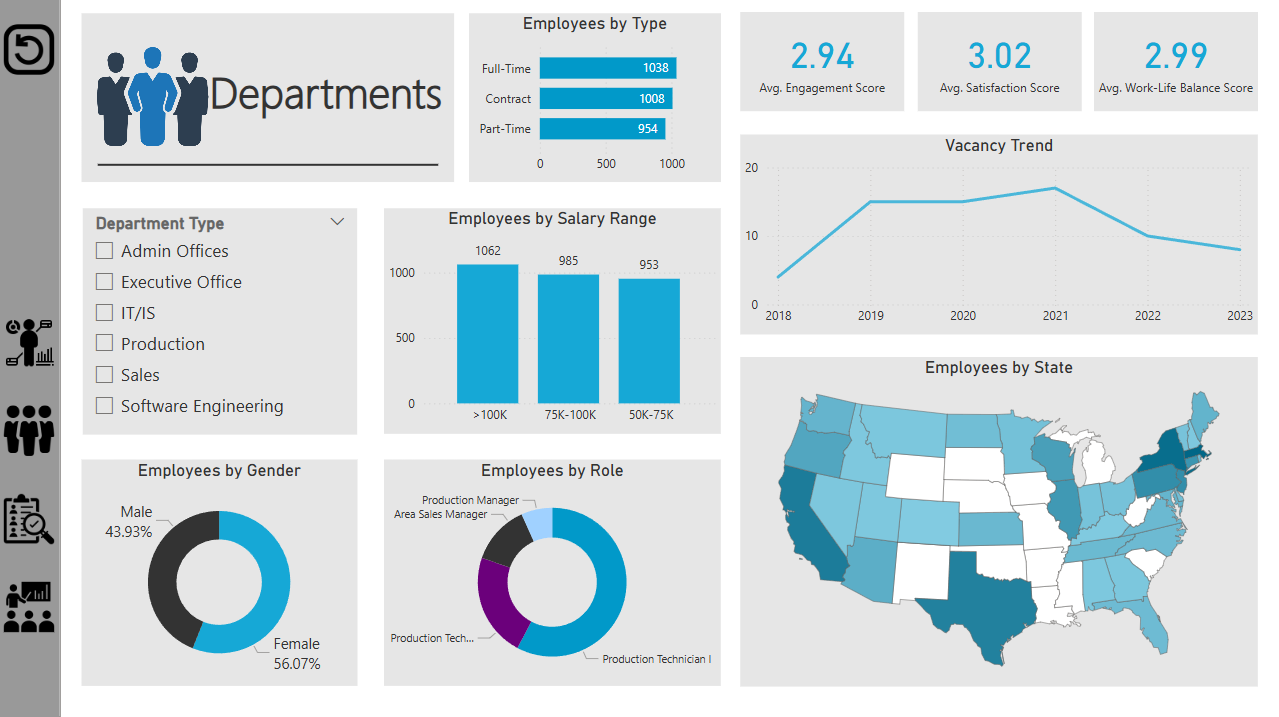

What the dashboard file says about the page in this screenshot:
{"tool":"powerbi","page":{"name":"Departments","canvas":[1280,720],"ordinal":1},"visuals":[{"type":"shape","box":[0,0,60.7,720.2],"z":0,"group":"g2"},{"type":"shape","box":[82.1,16.7,372.6,169],"z":0,"group":"g1"},{"type":"shapeMap","title":"Employees by State","fields":{"Category":["employee_data.State"],"Value":["Measure Table.Total Employees"]},"box":[741.9,359.6,517.8,329.6],"z":0},{"type":"slicer","title":"Department Type","fields":{"Values":["employee_data.DepartmentType"]},"box":[83.9,210.9,274.5,226.5],"z":1000},{"type":"image","box":[0,491.4,59.9,61.1],"z":1000,"group":"g2"},{"type":"shape","box":[98.8,161.9,340.5,13.1],"z":1500,"group":"g1"},{"type":"image","box":[90.4,38.1,125,123.8],"z":1750,"group":"g1"},{"type":"group","id":"g1","title":"Logo","box":[82.1,16.7,372.6,169],"z":2000},{"type":"textbox","box":[199.8,60,253.6,77.4],"z":2000,"group":"g1"},{"type":"image","box":[0,580.1,59.9,59.9],"z":2000,"group":"g2"},{"type":"image","box":[0,315.2,59.9,61.1],"z":3000,"group":"g2"},{"type":"donutChart","title":"Employees by Gender","fields":{"Y":["measure.Total Employees"],"Category":["employee_data.GenderCode"]},"box":[82.7,462.6,275.7,226.5],"z":3000},{"type":"image","box":[0,403.9,59.9,59.9],"z":4000,"group":"g2"},{"type":"donutChart","title":"Employees by Role","fields":{"Y":["Measure Table.Total Employees"],"Category":["employee_data.Title"]},"box":[384.7,462.6,336.8,226.5],"z":4000},{"type":"clusteredColumnChart","title":"Employees by Salary Range","fields":{"Category":["employee_data.Pay"],"Y":["Measure Table.Total Employees"]},"box":[384.7,210.9,336.8,225.3],"z":5000},{"type":"card","fields":{"Values":["Measure Table.Average Work Life Score"]},"box":[1095.4,14.4,164.2,99.5],"z":6000},{"type":"lineChart","title":"Vacancy Trend","fields":{"Category":["employee_data.StartDate.Variation.Date Hierarchy.Year","employee_data.StartDate.Variation.Date Hierarchy.Month"],"Y":["Measure Table.Total vacancies"]},"box":[741.9,137.8,517.8,200.1],"z":7000},{"type":"card","fields":{"Values":["Measure Table.Average Satisfaction Score"]},"box":[919.3,14.4,164.2,99.5],"z":8000},{"type":"card","fields":{"Values":["Measure Table.Average Engagement Score"]},"box":[741.9,14.4,164.2,99.5],"z":9000},{"type":"clusteredBarChart","title":"Employees by Type","fields":{"Category":["employee_data.EmployeeType"],"Y":["Measure Table.Total Employees"]},"box":[469.8,16.8,251.7,169],"z":10000},{"type":"group","id":"g2","title":"Nav Bar","box":[0,0,60.7,720.2],"z":11000},{"type":"image","box":[0,22.8,59.9,59.9],"z":12000}]}

Visuals, with their boxes on the page's 1280x720 design canvas (x1, y1, x2, y2). These are canvas units, not pixel positions in the 1279x717 screenshot, which may show the page scaled, cropped or inside an application window:
shape: [0, 0, 61, 720]
shape: [82, 17, 455, 186]
"Employees by State" shapeMap: [742, 360, 1260, 689]
"Department Type" slicer: [84, 211, 358, 437]
image: [0, 491, 60, 552]
shape: [99, 162, 439, 175]
image: [90, 38, 215, 162]
"Logo" group: [82, 17, 455, 186]
textbox: [200, 60, 453, 137]
image: [0, 580, 60, 640]
image: [0, 315, 60, 376]
"Employees by Gender" donutChart: [83, 463, 358, 689]
image: [0, 404, 60, 464]
"Employees by Role" donutChart: [385, 463, 722, 689]
"Employees by Salary Range" clusteredColumnChart: [385, 211, 722, 436]
card - Measure Table.Average Work Life Score: [1095, 14, 1260, 114]
"Vacancy Trend" lineChart: [742, 138, 1260, 338]
card - Measure Table.Average Satisfaction Score: [919, 14, 1084, 114]
card - Measure Table.Average Engagement Score: [742, 14, 906, 114]
"Employees by Type" clusteredBarChart: [470, 17, 722, 186]
"Nav Bar" group: [0, 0, 61, 720]
image: [0, 23, 60, 83]
